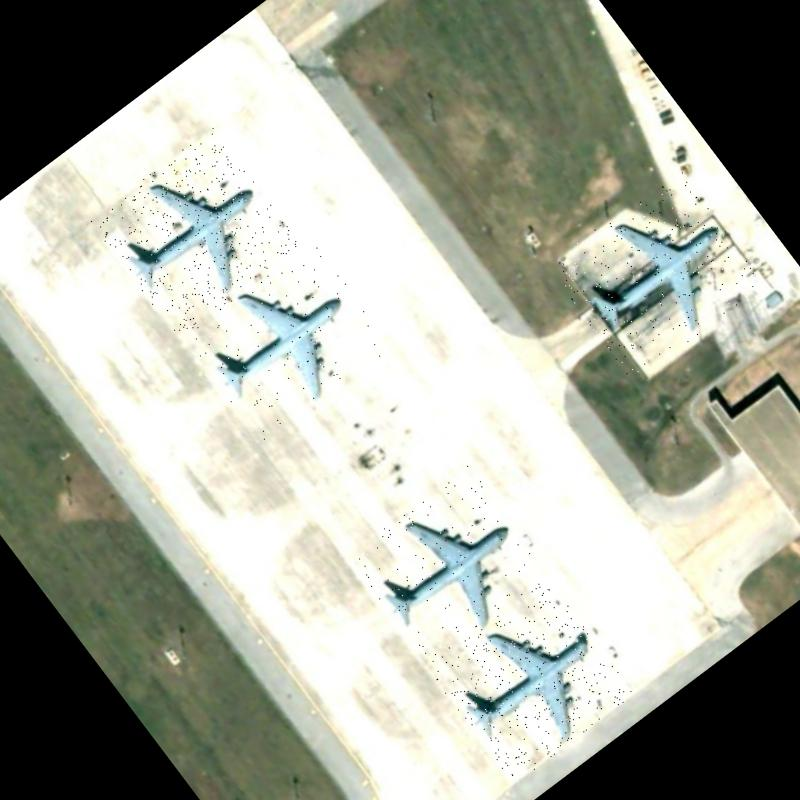A4: (546, 166, 767, 383), (89, 126, 303, 338), (180, 236, 393, 444), (428, 578, 636, 785), (346, 464, 554, 668)
